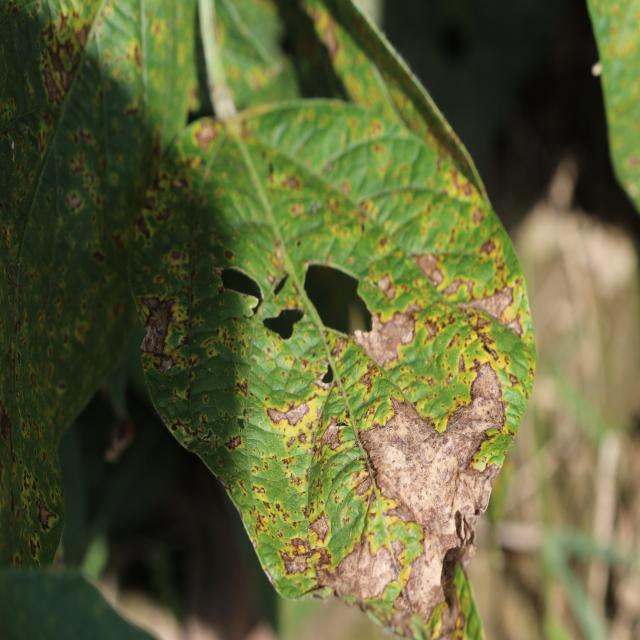Bacterial_Blight: (363, 389, 498, 544), (436, 376, 509, 471), (326, 520, 406, 601), (403, 538, 453, 623), (355, 305, 417, 369), (41, 30, 82, 101), (137, 294, 179, 361), (459, 285, 517, 325), (217, 266, 265, 311), (469, 361, 505, 402), (387, 498, 424, 533), (266, 400, 312, 426), (172, 420, 214, 446), (35, 490, 57, 532), (317, 418, 342, 454), (416, 255, 445, 286), (194, 119, 221, 149), (0, 400, 14, 455), (282, 550, 310, 576), (313, 563, 339, 588), (389, 394, 414, 418), (376, 273, 396, 300), (479, 338, 500, 362), (309, 516, 329, 540), (423, 316, 442, 341), (478, 237, 497, 257), (354, 476, 373, 496), (74, 24, 89, 49), (281, 174, 301, 191), (272, 238, 284, 266), (224, 434, 242, 451), (67, 191, 82, 211), (290, 536, 311, 550), (29, 536, 39, 559), (23, 468, 32, 489), (458, 355, 466, 373), (286, 435, 296, 448), (297, 431, 307, 444), (30, 372, 37, 389)
Soybean: (129, 99, 535, 638)
